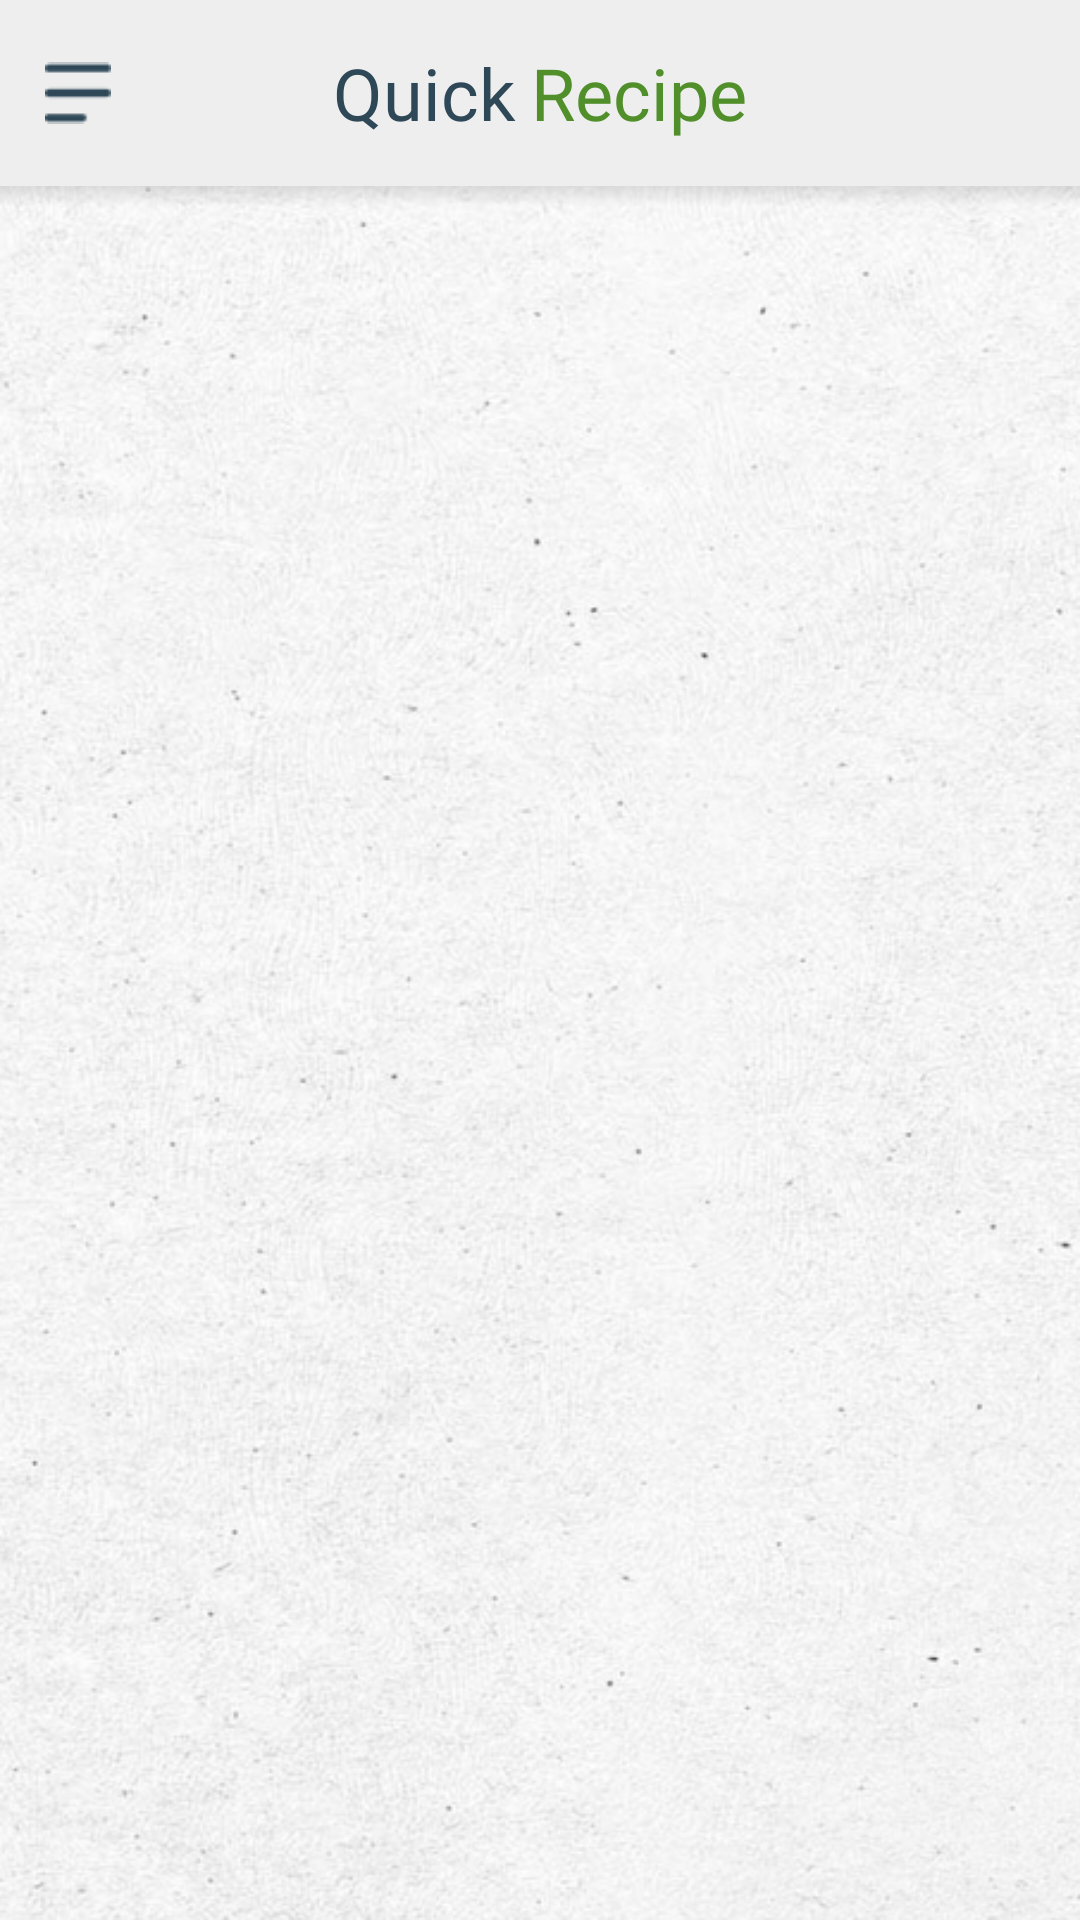

Icon click points for this 1080w x 1920h phone screenshot, format point (x, y):
side nav: point (78, 93)
